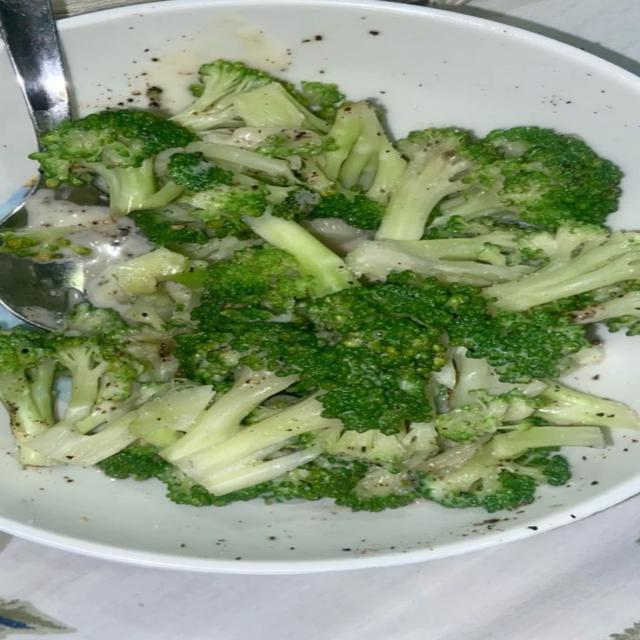broccoli: (367, 273, 590, 383), (302, 288, 444, 434), (436, 127, 621, 228), (160, 395, 337, 495), (30, 110, 195, 216), (424, 427, 604, 512), (33, 387, 211, 466), (377, 129, 499, 240), (484, 225, 639, 311), (162, 366, 297, 462), (173, 60, 328, 133), (97, 444, 271, 506), (244, 214, 357, 296), (347, 239, 533, 287), (320, 102, 406, 205), (53, 335, 139, 433), (0, 328, 56, 465), (204, 245, 313, 314), (174, 60, 273, 131), (447, 347, 546, 408), (435, 390, 536, 441), (314, 423, 439, 464), (535, 381, 639, 429), (234, 82, 329, 134), (188, 142, 299, 185), (182, 185, 269, 238), (272, 188, 384, 229), (114, 248, 188, 296), (131, 207, 209, 252), (572, 288, 639, 335), (0, 227, 91, 261), (306, 192, 384, 229), (167, 153, 233, 191), (67, 302, 134, 339), (256, 128, 336, 158), (300, 81, 345, 120)
